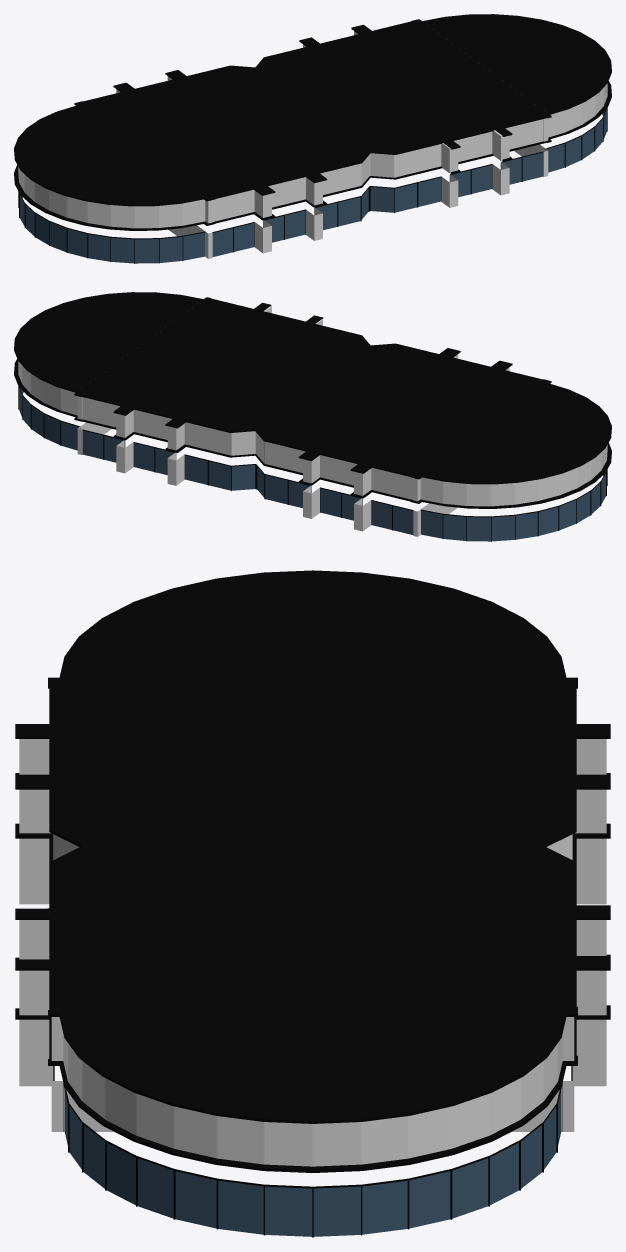
Rendered from BGC 8.fbx.
3 renders of one model, top to bottom at view 1: azimuth 30°, elevation 25°; view 2: azimuth 150°, elevation 25°; view 3: azimuth 270°, elevation 25°, orthographic. The views are drawn at different scales.
Parts seen in each view (by area): view 1: BGC8_Roof_Black, BGC8_Roof_White, BGC8_Base_Mwindows, BGC8_Base_Cwindows, BGC8_Base_Main, BGC8_Base_Mframe, BGC8_Base_Cframe; view 2: BGC8_Roof_Black, BGC8_Roof_White, BGC8_Base_Mwindows, BGC8_Base_Cwindows, BGC8_Base_Main, BGC8_Base_Mframe, BGC8_Base_Cframe; view 3: BGC8_Roof_Black, BGC8_Roof_White, BGC8_Base_Cwindows, BGC8_Base_Main, BGC8_Base_Cframe.
Boxes of the visible parts, left/top/right/bottom form: BGC8_Roof_Black: left=14, top=14, right=611, bottom=230; BGC8_Roof_White: left=18, top=31, right=607, bottom=228; BGC8_Base_Mwindows: left=212, top=152, right=542, bottom=256; BGC8_Base_Cwindows: left=20, top=109, right=606, bottom=263; BGC8_Base_Main: left=168, top=144, right=548, bottom=258; BGC8_Base_Mframe: left=212, top=151, right=543, bottom=252; BGC8_Base_Cframe: left=18, top=108, right=607, bottom=263; BGC8_Roof_Black: left=14, top=292, right=611, bottom=508; BGC8_Roof_White: left=18, top=306, right=607, bottom=506; BGC8_Base_Mwindows: left=83, top=430, right=413, bottom=534; BGC8_Base_Cwindows: left=19, top=387, right=605, bottom=541; BGC8_Base_Main: left=77, top=422, right=457, bottom=536; BGC8_Base_Mframe: left=82, top=429, right=413, bottom=530; BGC8_Base_Cframe: left=18, top=386, right=607, bottom=541; BGC8_Roof_Black: left=15, top=570, right=610, bottom=1172; BGC8_Roof_White: left=19, top=739, right=606, bottom=1166; BGC8_Base_Cwindows: left=64, top=1090, right=561, bottom=1236; BGC8_Base_Main: left=19, top=838, right=606, bottom=1131; BGC8_Base_Cframe: left=63, top=1083, right=562, bottom=1237.
Bounding box in the file's own units: 4190 × 426 × 1914.
